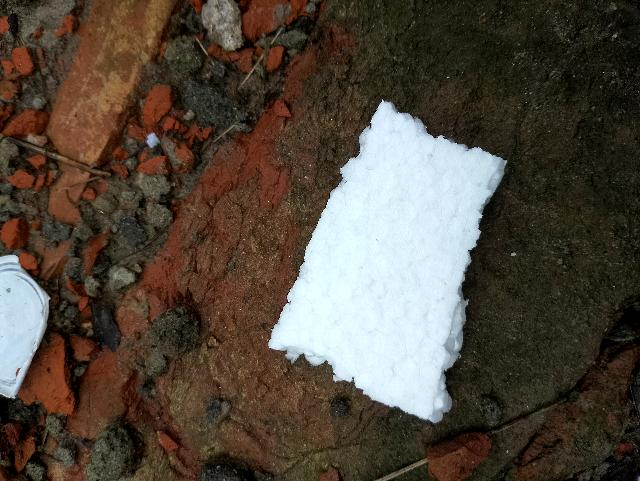cocksheet: (266, 102, 561, 438)
